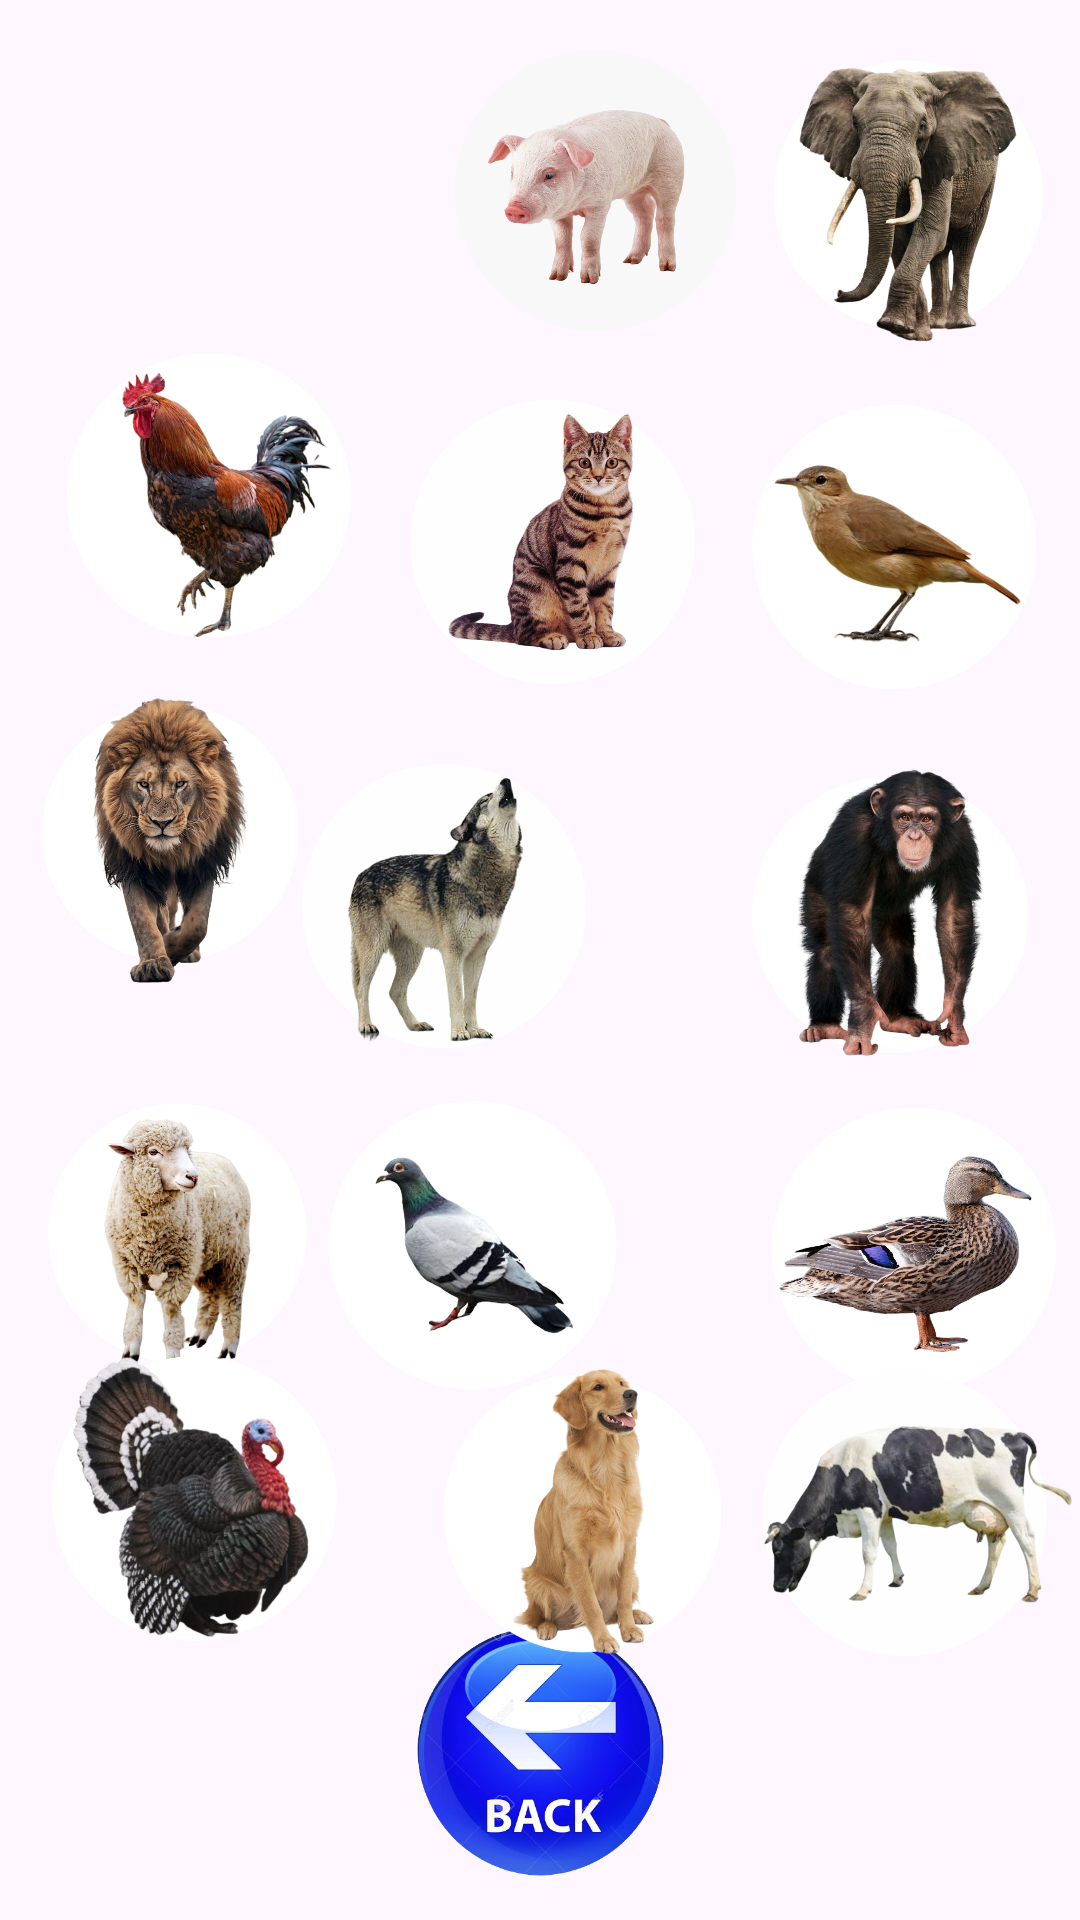

Where to tap for icons on this 1080x1920 app screen, as (x,y):
atras: (540,1739)
chancho: (586,197)
elefante: (907,204)
gallo: (226,505)
gato: (541,532)
hornero: (898,553)
leon: (170,840)
lobo: (435,909)
mono: (890,912)
oveja: (168,1254)
paloma: (474,1245)
pato: (905,1254)
pavo: (190,1496)
perro: (564,1511)
vaca: (918,1514)
